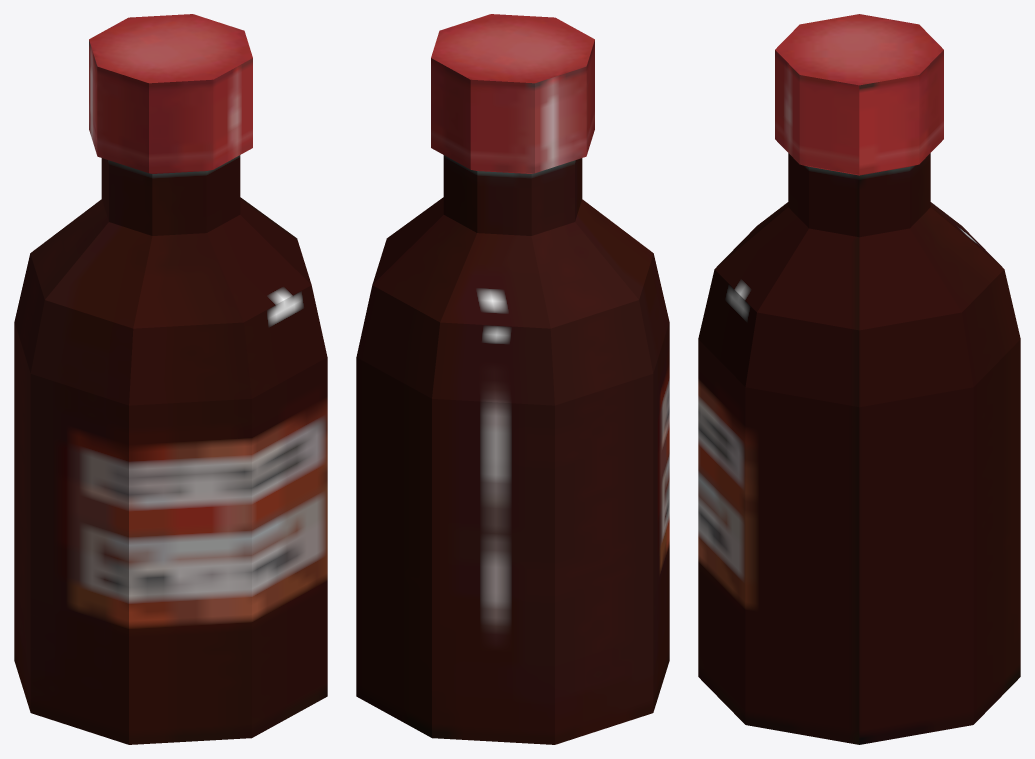
Rendered from jar_7.fbx.
3 views of the same model, side by side, from view 1: azimuth 30°, elevation 25°; view 2: azimuth 150°, elevation 25°; view 3: azimuth 270°, elevation 25° (orthographic).
Visible parts, largest first — view 1: mesh_0; view 2: mesh_0; view 3: mesh_0.
Part boxes in pixels (x1,y1,x2,y2): mesh_0: [14, 14, 327, 744]; mesh_0: [356, 14, 669, 744]; mesh_0: [698, 14, 1020, 744].
Size of the model in its own units: 7.6 by 16.3 by 7.6.
1 material, 1 textured.
